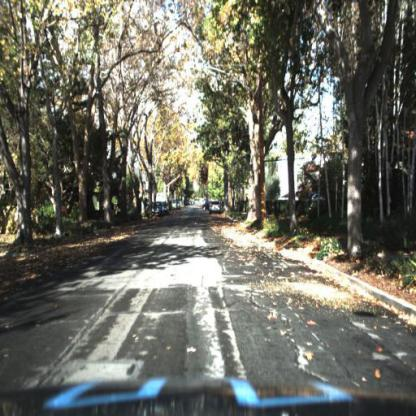car: (207, 197, 223, 218), (149, 201, 167, 219), (162, 202, 170, 218)
